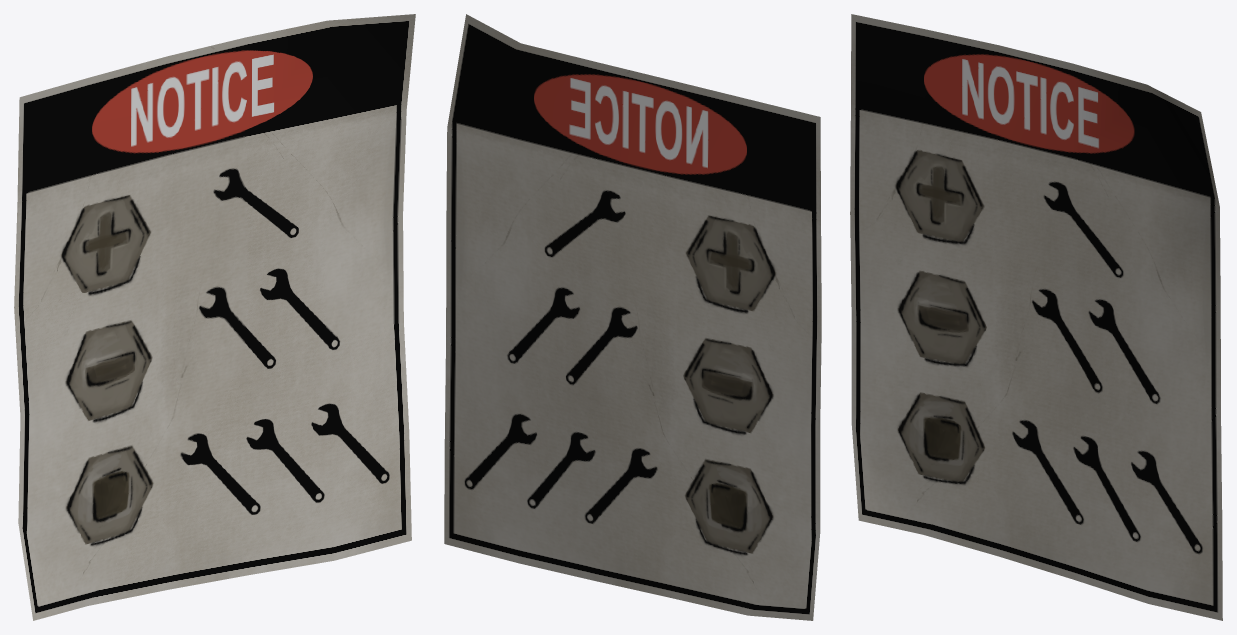
The model's file is wrench_notice.fbx.
3 renders of one model, left to right at view 1: azimuth 30°, elevation 25°; view 2: azimuth 150°, elevation 25°; view 3: azimuth 330°, elevation 25°, orthographic. The views are drawn at different scales.
Visible parts, largest first — view 1: Plane; view 2: Plane; view 3: Plane.
Boxes of the visible parts, x1,y1,x2,y2 form: Plane: [14, 14, 415, 620]; Plane: [444, 14, 821, 620]; Plane: [850, 14, 1222, 620].
Size of the model in its own units: 203 by 267 by 18.43.
Materials: 1 (1 with a texture image).
